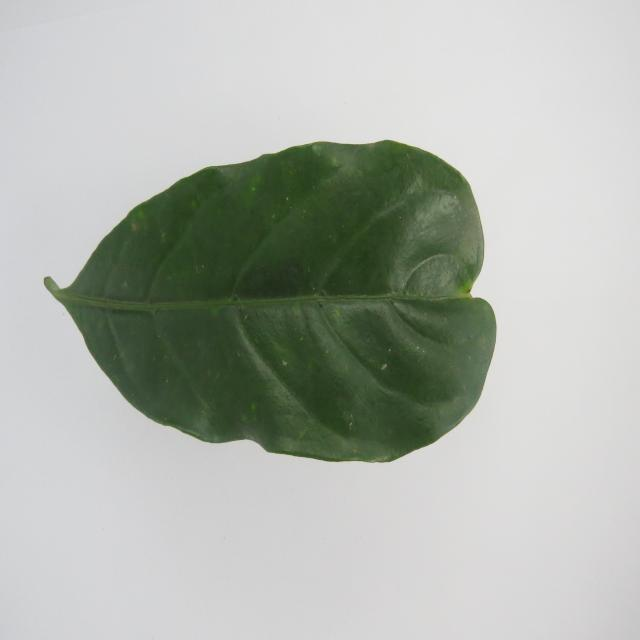DeficienciaNutricional-Boro: (45, 142, 496, 462)
